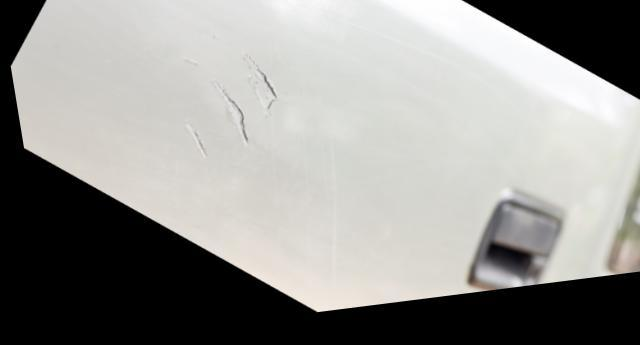scratch: (171, 51, 277, 171)
